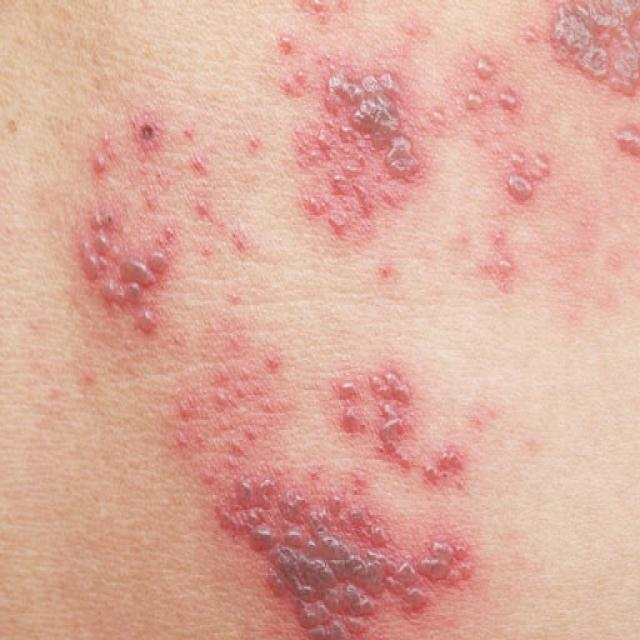Shingles: (151, 343, 480, 640), (79, 123, 248, 339), (268, 34, 427, 230), (446, 53, 554, 289), (528, 0, 640, 152)
